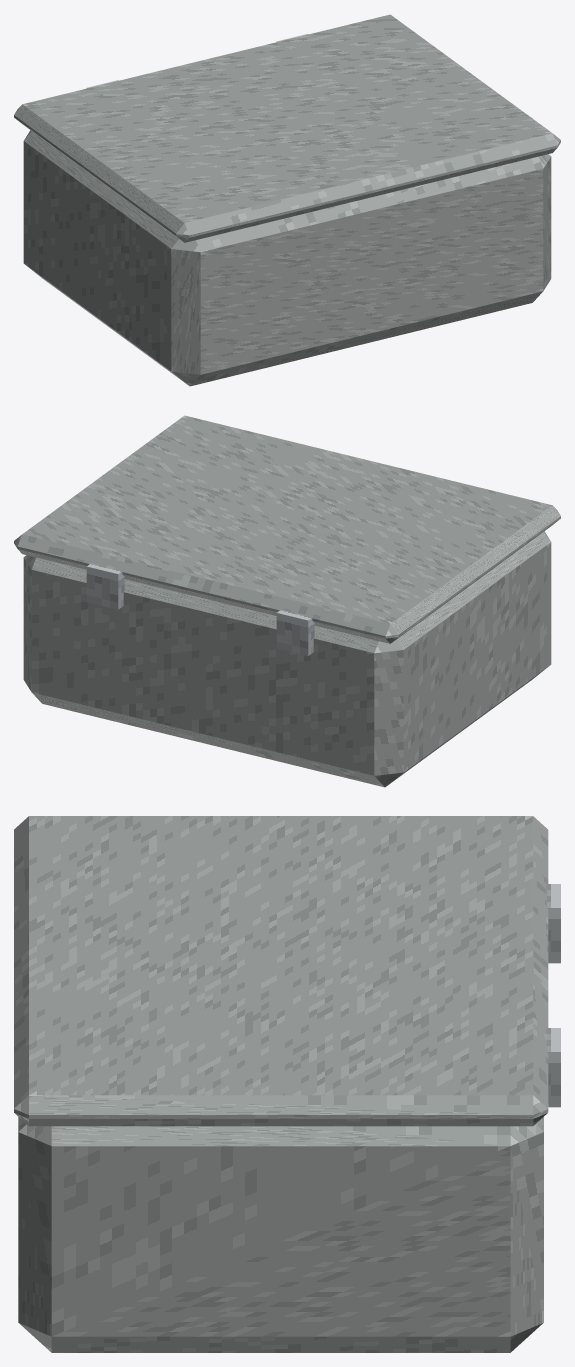
Rendered from box_medium_metal.glb.
3 renders of one model, top to bottom at view 1: azimuth 30°, elevation 25°; view 2: azimuth 150°, elevation 25°; view 3: azimuth 270°, elevation 25°, orthographic. The views are drawn at different scales.
Parts seen in each view (by area): view 1: block_container body, block_lid; view 2: block_container body, block_lid, block_latch (×2); view 3: block_lid, block_container body, block_latch (×2).
Part boxes in pixels (box(x1,y1,x2,y2)): block_container body: box(23, 130, 551, 386); block_lid: box(14, 14, 560, 242); block_container body: box(23, 531, 551, 787); block_lid: box(14, 415, 560, 643); block_latch (×2): box(86, 563, 314, 655); block_lid: box(14, 816, 548, 1126); block_container body: box(18, 1117, 543, 1352); block_latch (×2): box(546, 884, 560, 1107).
Size of the model in its own units: 0.51 by 0.2177 by 0.404.
Materials: 1 (1 with a texture image).
